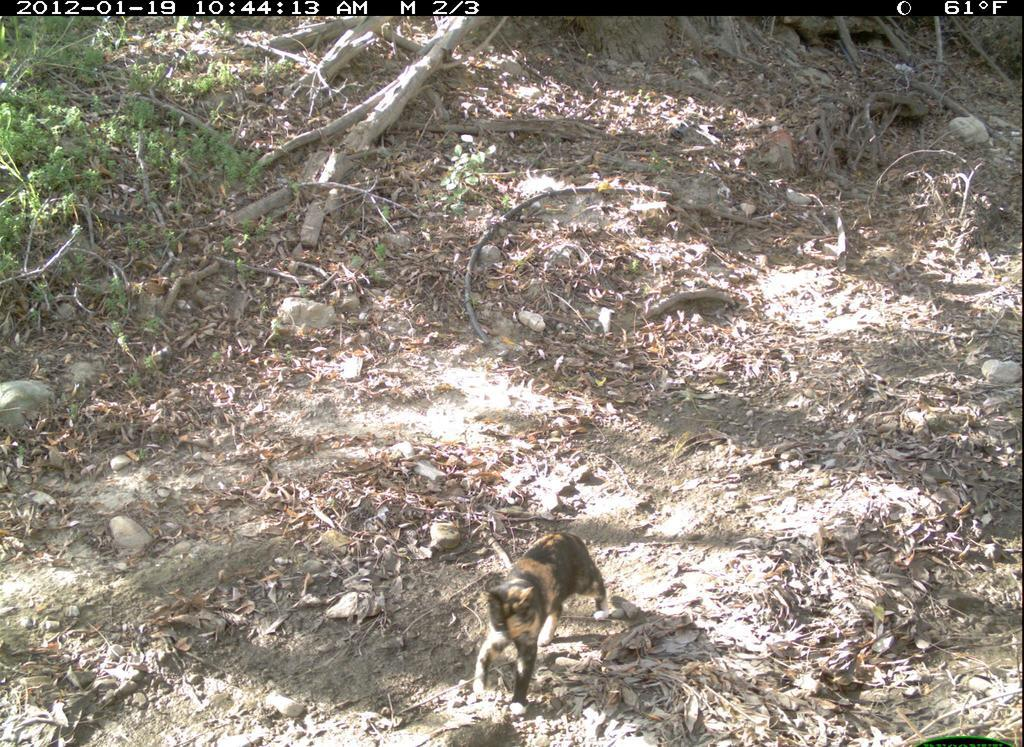cat: (463, 514, 632, 726)
